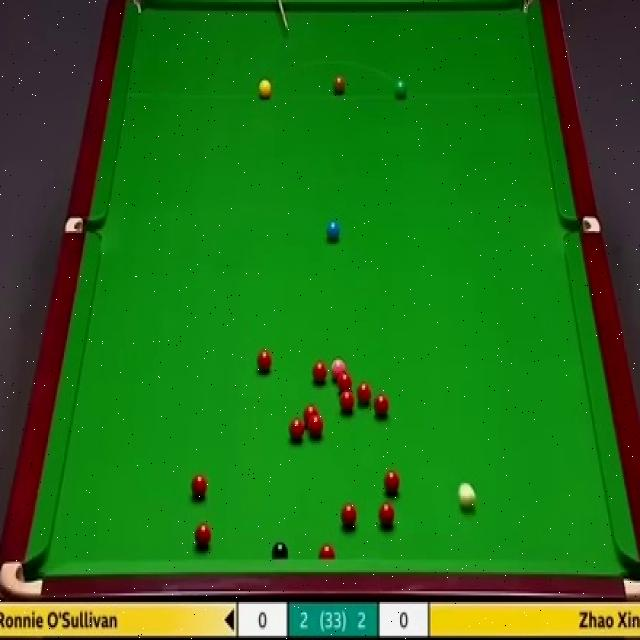black-ball: (271, 538, 288, 563)
blue-ball: (326, 221, 341, 242)
brown-ball: (332, 77, 346, 98)
green-ball: (393, 78, 408, 100)
pink-ball: (330, 356, 346, 380)
red-ball: (377, 500, 396, 530), (382, 468, 401, 496), (190, 473, 208, 499), (341, 501, 358, 528), (194, 522, 211, 548), (255, 348, 272, 374), (288, 417, 305, 442), (308, 412, 324, 438), (339, 390, 355, 416), (312, 359, 328, 384), (357, 382, 374, 404), (374, 394, 389, 418), (336, 372, 353, 392), (318, 543, 335, 560), (303, 404, 318, 423)
white-ball: (457, 479, 476, 512)
yellow-ball: (258, 76, 271, 99)
